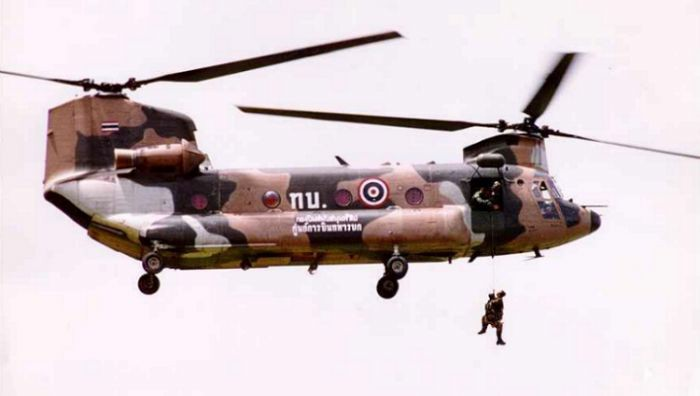chinook: (30, 62, 612, 297)
